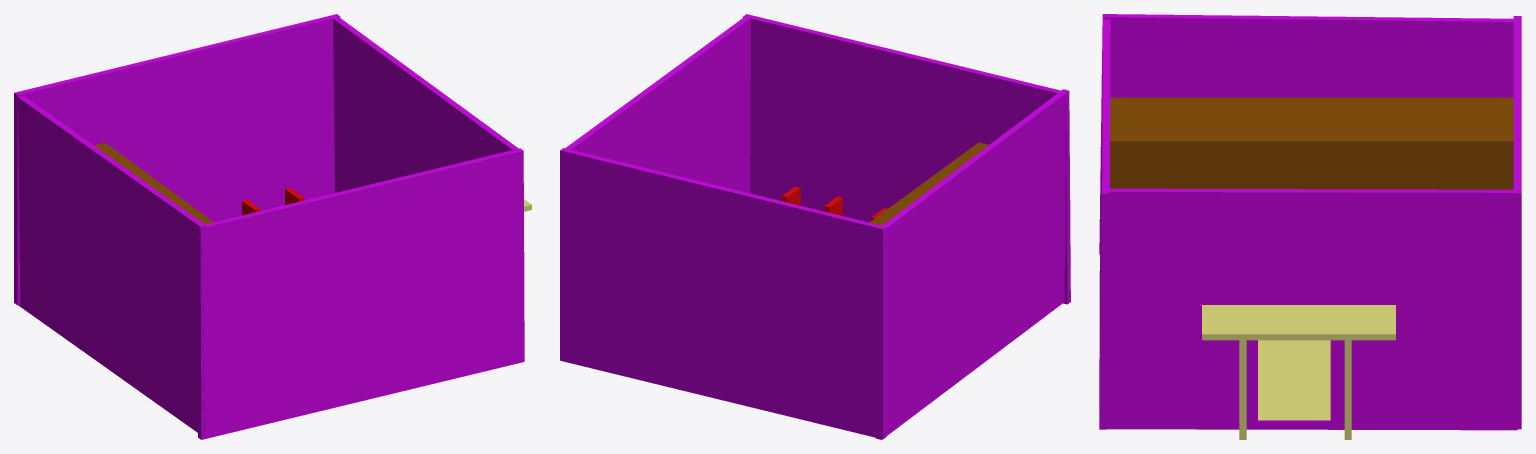
The model's file is STORE.fbx.
The picture shows the model from 3 angles, left to right: view 1: azimuth 30°, elevation 25°; view 2: azimuth 150°, elevation 25°; view 3: azimuth 270°, elevation 25°; orthographic projection. The views are drawn at different scales.
Visible parts, largest first — view 1: pCube1, pCube3, pCube2, pCube6, pCube11; view 2: pCube2, pCube1, pCube3, pCube6, pCube11; view 3: pCube6, pCube11, pCube3, pCube9, pPlane1, pCube1, pCube2, pCube7, pCube8.
Boxes of the visible parts, x1,y1,x2,y2 form: pCube1: (197, 148, 524, 439); pCube3: (18, 96, 210, 437); pCube2: (14, 14, 340, 305); pCube6: (333, 17, 519, 192); pCube11: (94, 142, 213, 224); pCube2: (560, 148, 886, 439); pCube1: (743, 14, 1070, 304); pCube3: (876, 89, 1069, 439); pCube6: (565, 15, 751, 193); pCube11: (869, 142, 988, 225); pCube6: (1107, 188, 1517, 430); pCube11: (1110, 97, 1513, 189); pCube3: (1099, 14, 1513, 254); pCube9: (1202, 305, 1395, 340); pPlane1: (1258, 340, 1330, 420); pCube1: (1099, 19, 1110, 429); pCube2: (1513, 16, 1521, 429); pCube7: (1239, 340, 1246, 439); pCube8: (1344, 340, 1351, 439).
Size of the model in its own units: 16.35 by 8.91 by 14.16.
